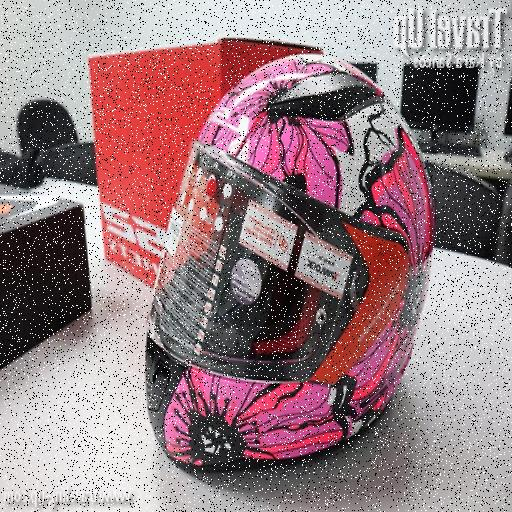Helmet: (134, 46, 444, 480)
